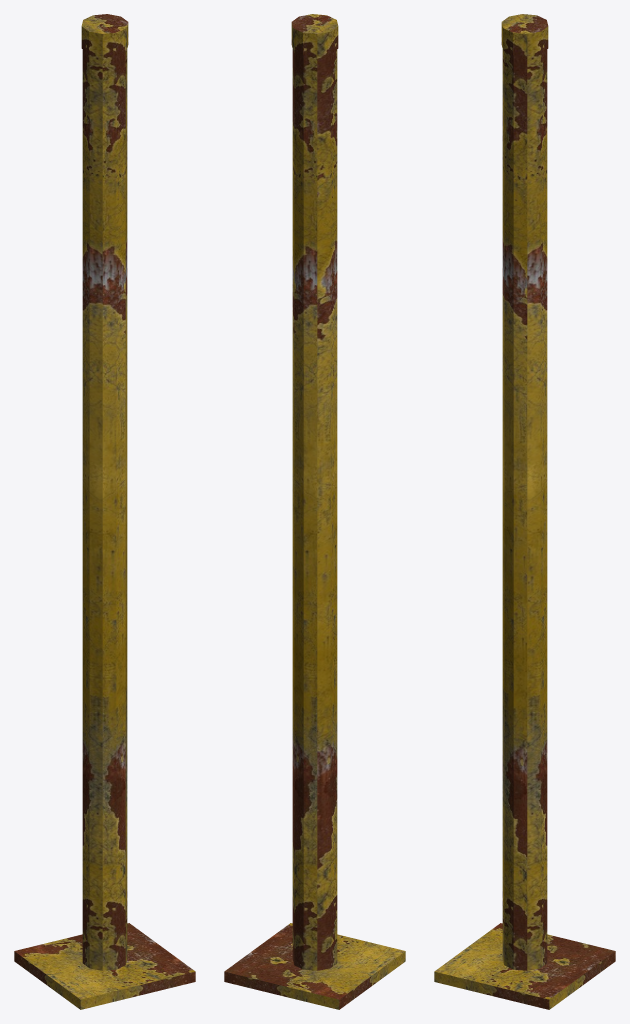
Rendered from korkuluk_direk.gltf.
3 renders of one model, left to right at view 1: azimuth 30°, elevation 25°; view 2: azimuth 150°, elevation 25°; view 3: azimuth 330°, elevation 25°, orthographic.
Parts seen in each view (by area): view 1: korkuluk_direk; view 2: korkuluk_direk; view 3: korkuluk_direk.
Part boxes in pixels (<box>): korkuluk_direk: <box>14,14,195,1009</box>; korkuluk_direk: <box>224,14,405,1009</box>; korkuluk_direk: <box>434,14,615,1009</box>.
Size of what is drawn, in the model's own units: 0.14 by 1.1 by 0.14.
1 material, 1 textured.
